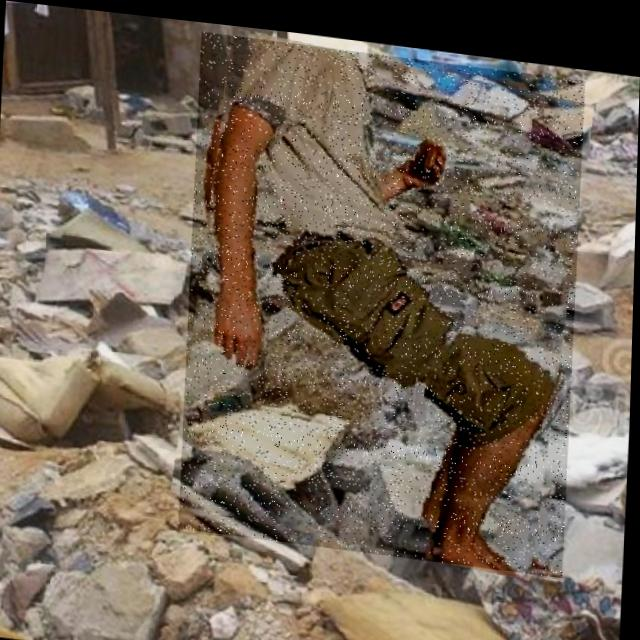Person in Rubble: (181, 25, 585, 565)
